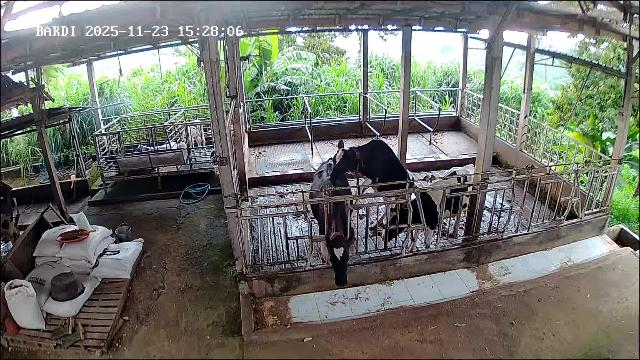mounting: (330, 139, 418, 232)
